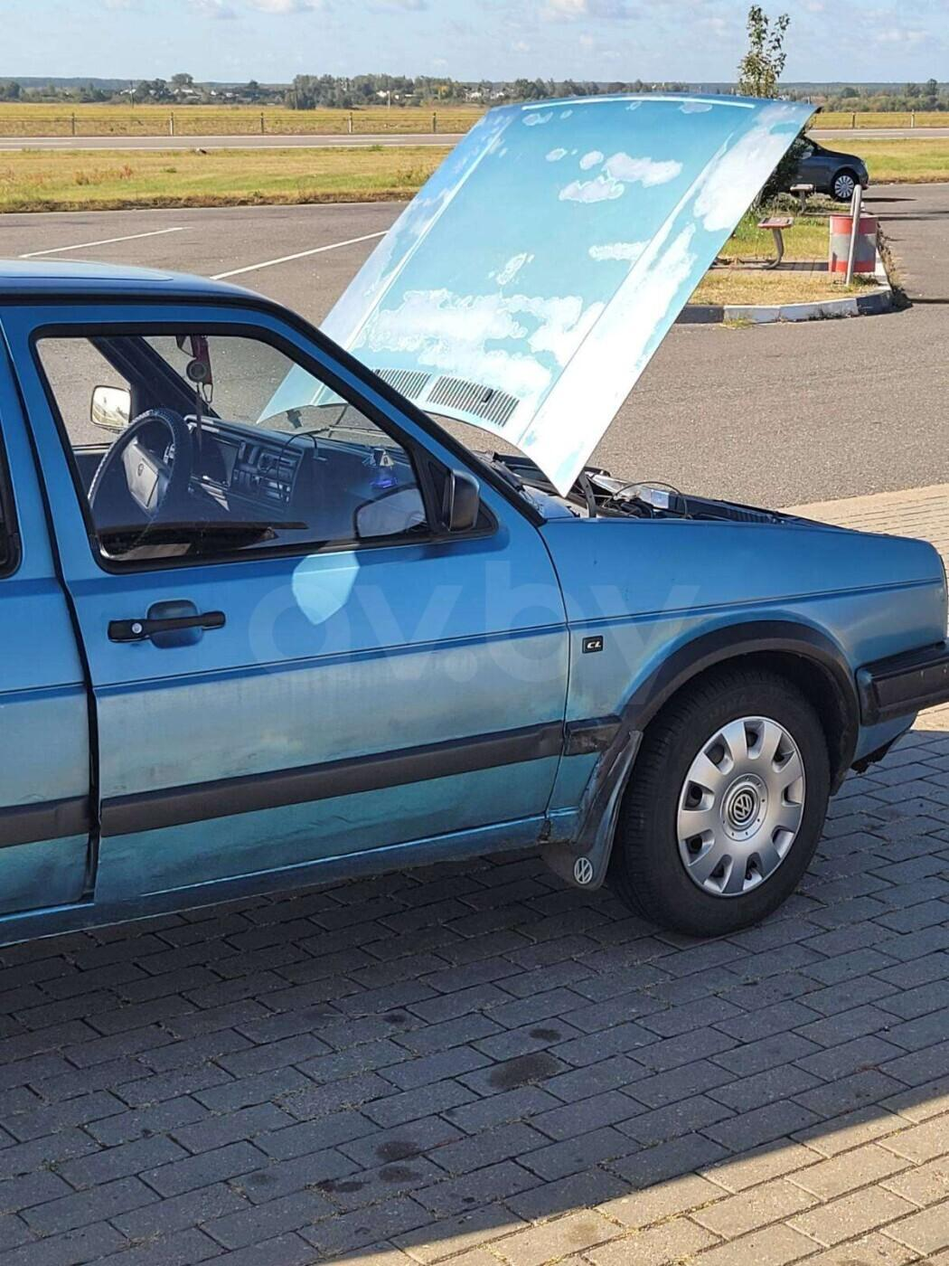Golf_1983-1992: (0, 257, 949, 1002)
